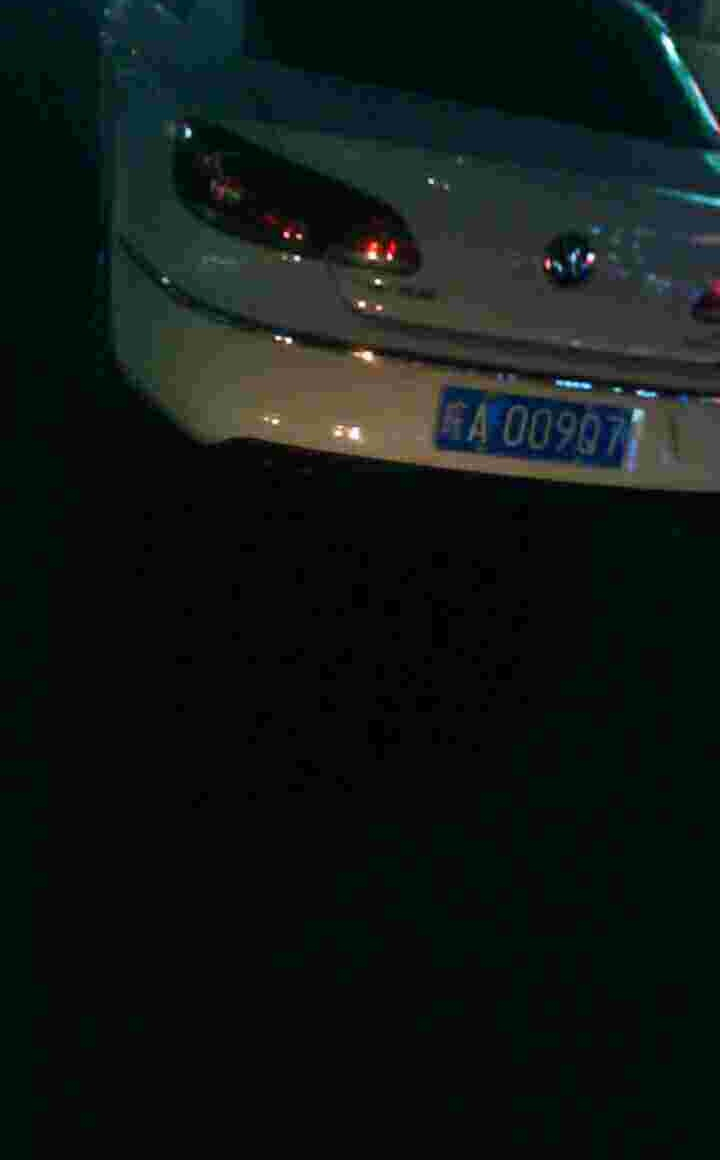license_plate: (443, 385, 648, 468)
